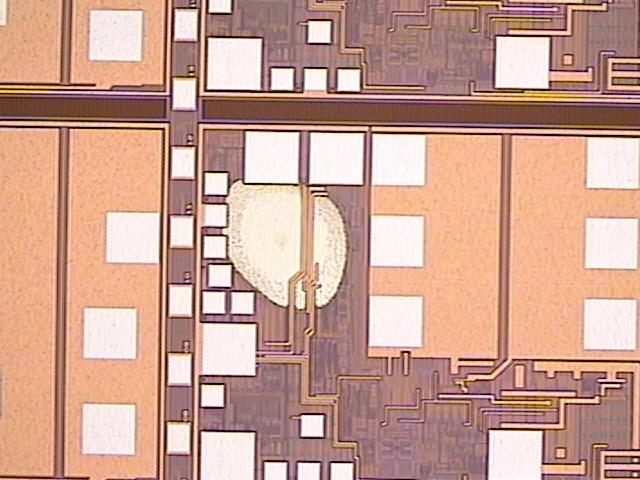BLOCK ETCH: (219, 165, 353, 317)
